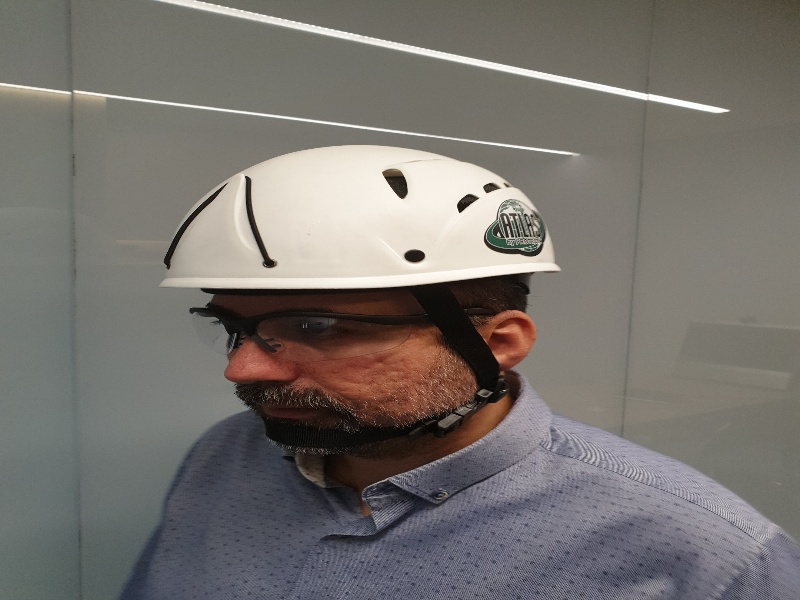Baret: (161, 145, 565, 295)
Gozluk: (192, 306, 504, 361)
